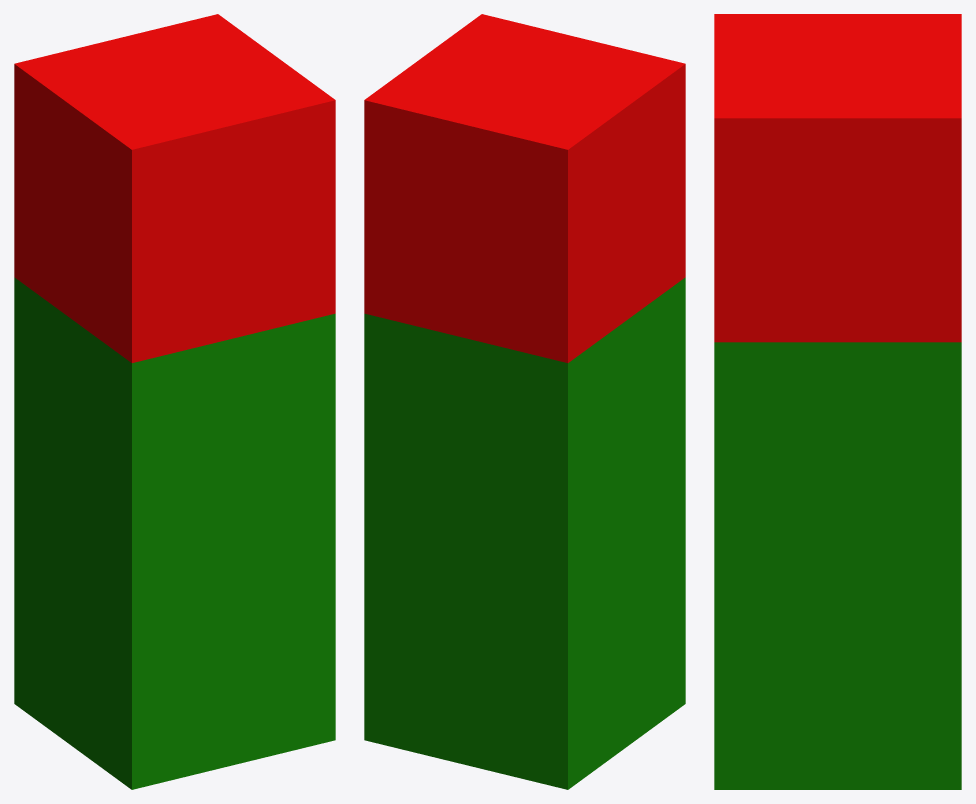
File: (1) Red Flower (Stage 3).obj
3 renders of one model, left to right at view 1: azimuth 30°, elevation 25°; view 2: azimuth 150°, elevation 25°; view 3: azimuth 270°, elevation 25°, orthographic. The views are drawn at different scales.
Bounding box in the file's own units: 0.1 × 0.3 × 0.1.
Materials: 1 (1 with a texture image).
